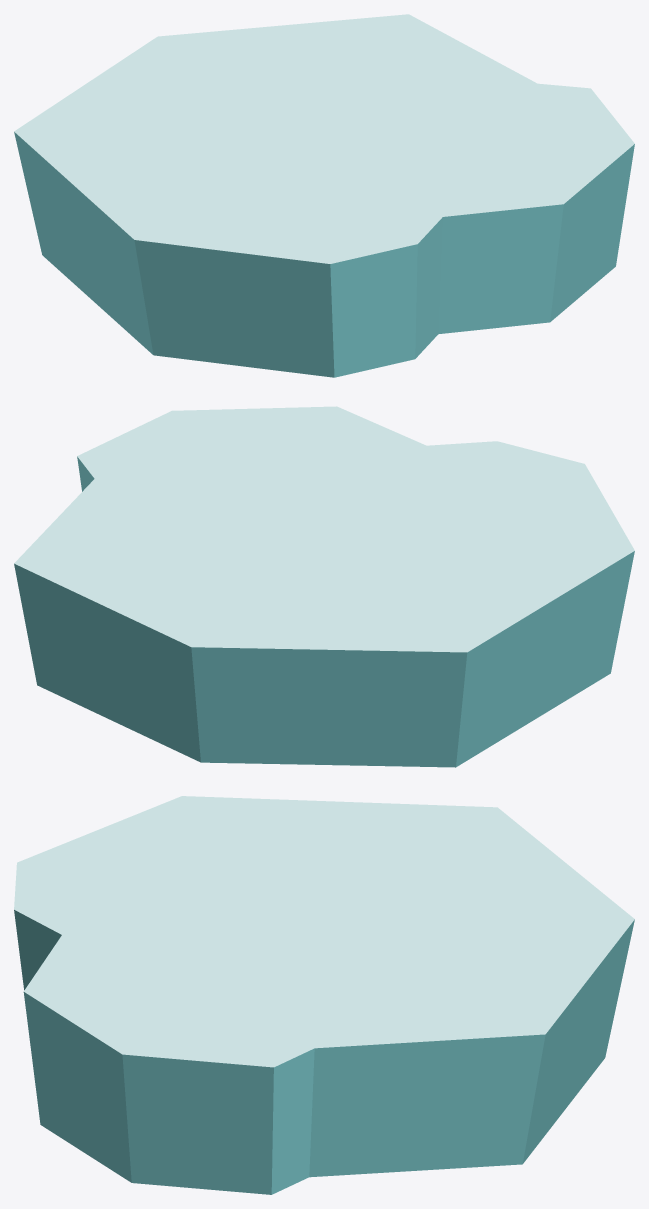
File: floe.glb
3 renders of one model, top to bottom at view 1: azimuth 30°, elevation 25°; view 2: azimuth 150°, elevation 25°; view 3: azimuth 270°, elevation 25°, orthographic. The views are drawn at different scales.
Visible parts, largest first — view 1: floe; view 2: floe; view 3: floe.
Boxes of the visible parts, x1,y1,x2,y2 form: floe: [14, 14, 634, 377]; floe: [14, 406, 634, 767]; floe: [14, 796, 634, 1194].
Bounding box in the file's own units: 2.27 × 0.5315 × 2.19.
1 material, 1 textured.
